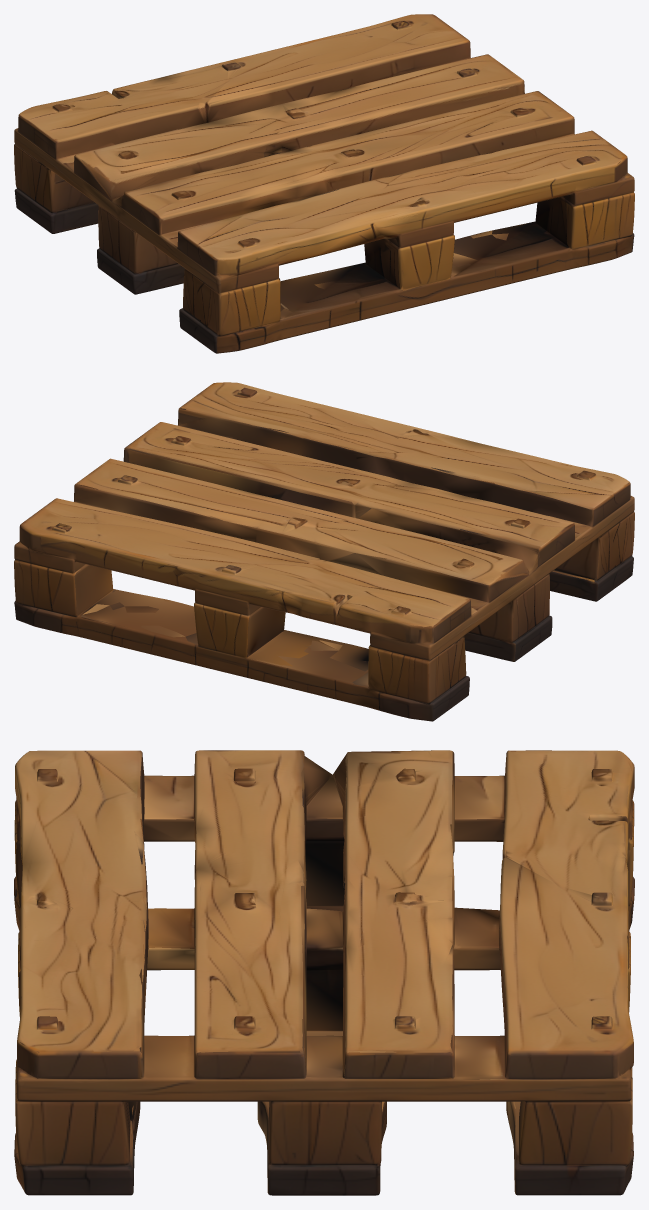
Rendered from CargoPallet.fbx.
The picture shows the model from 3 angles, top to bottom: view 1: azimuth 30°, elevation 25°; view 2: azimuth 150°, elevation 25°; view 3: azimuth 270°, elevation 25°; orthographic projection. The views are drawn at different scales.
Parts seen in each view (by area): view 1: texture_pbr_v128; view 2: texture_pbr_v128; view 3: texture_pbr_v128.
Part boxes in pixels (left/top/right/bottom): texture_pbr_v128: left=14, top=14, right=634, bottom=353; texture_pbr_v128: left=14, top=382, right=634, bottom=721; texture_pbr_v128: left=14, top=750, right=634, bottom=1195.
Size of the model in its own units: 91.86 by 20.59 by 78.53.
1 material, 1 textured.
